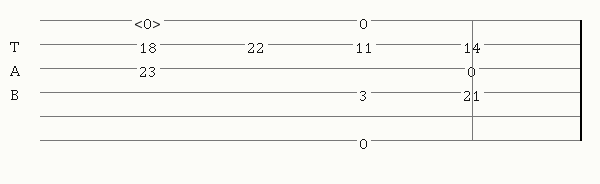0: (359, 133, 372, 147), (359, 13, 372, 27), (467, 61, 480, 75)
11: (355, 37, 377, 51)
14: (463, 37, 485, 51)
18: (139, 37, 161, 51)
21: (463, 85, 485, 99)
22: (247, 37, 269, 51)
23: (139, 61, 161, 75)
3: (359, 85, 372, 99)
harmonic: (134, 13, 165, 27)
